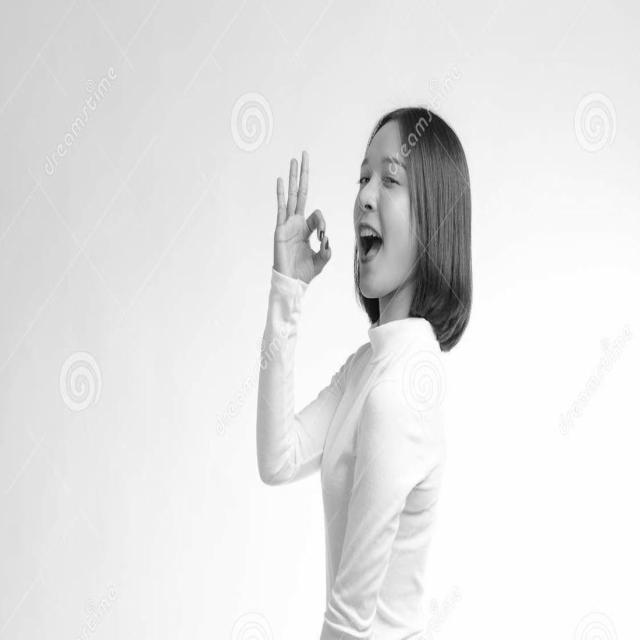perfect: (268, 143, 336, 310)
